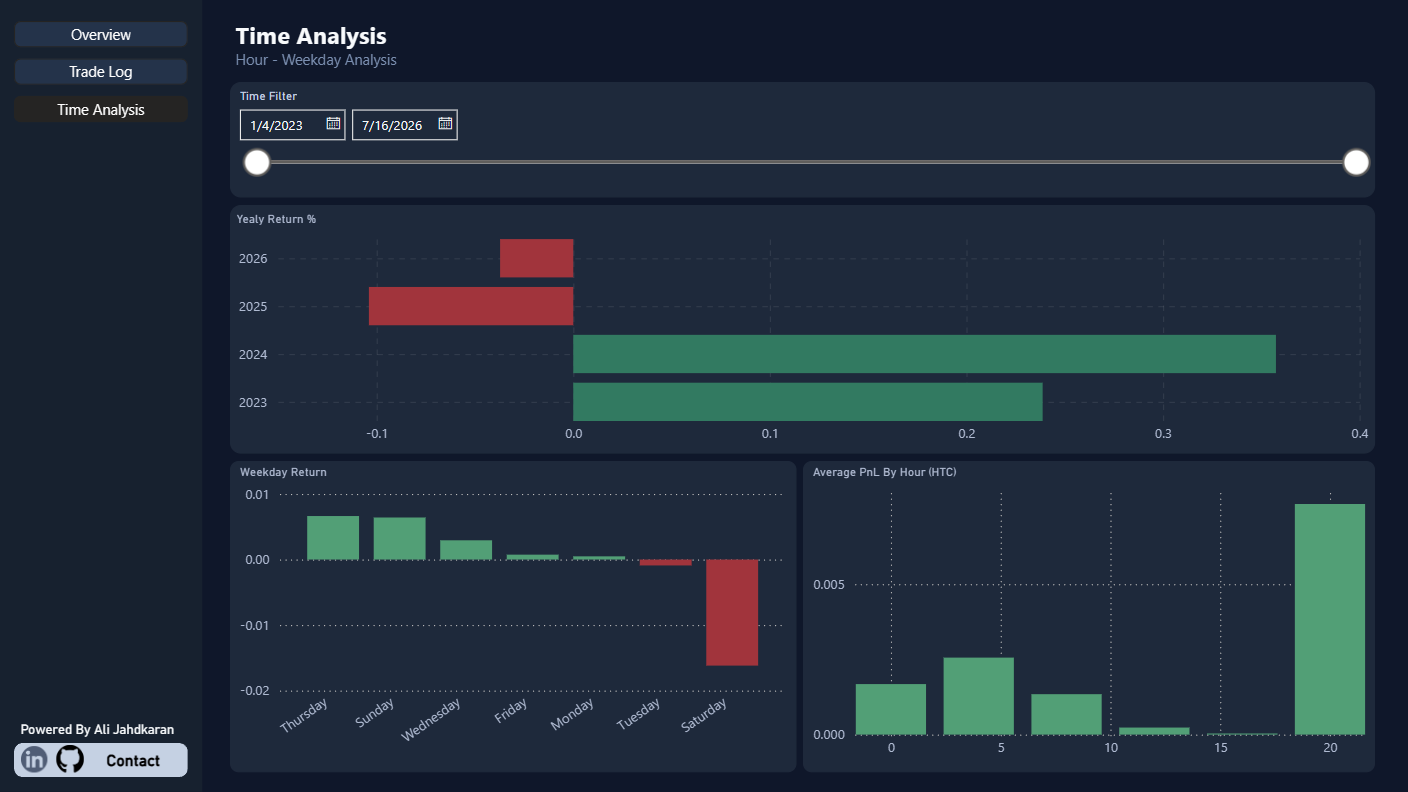

The page's visual inventory and layout, read from the dashboard file:
{"tool":"powerbi","page":{"name":"Time Analysis","canvas":[1280,720],"ordinal":2},"visuals":[{"type":"shape","box":[0,0,183.8,719.8],"z":0},{"type":"textbox","box":[209,12,365,63],"z":1000},{"type":"shape","box":[12.9,675.2,158.1,31],"z":2000},{"type":"image","box":[19.5,677.6,23.8,26.2],"z":3000},{"type":"image","box":[48.6,677.6,30.5,24.8],"z":4000},{"type":"textbox","box":[91.9,676.9,65.6,30.6],"z":5000},{"type":"textbox","box":[13.3,648.3,163.3,26.7],"z":6000},{"type":"pageNavigator","box":[12.7,19.1,158.2,92.7],"z":7000},{"type":"clusteredBarChart","title":"Yealy Return %","fields":{"Category":["backtested.exit_time.Variation.Date Hierarchy.Year","backtested.exit_time.Variation.Date Hierarchy.Quarter","backtested.exit_time.Variation.Date Hierarchy.Month","backtested.exit_time.Variation.Date Hierarchy.Day"],"Y":["Sum(backtested.pnl_pct)"]},"box":[209.1,186.4,1040.9,226.4],"z":8000},{"type":"clusteredColumnChart","title":"Weekday Return","fields":{"Y":["Avg(backtested.pnl_pct)"],"Category":["backtested.weekday"]},"box":[209.1,419.1,514.5,282.7],"z":9000},{"type":"slicer","title":"Year Equity","fields":{"Values":["backtested.exit_time"]},"box":[209.1,74.5,1040.9,105.5],"z":10000},{"type":"clusteredColumnChart","title":"Average PnL By Hour (HTC)","fields":{"Y":["Avg(backtested.pnl_pct)"],"Category":["backtested.hour"]},"box":[730,419.1,520,282.7],"z":11000}]}

Visuals, with their boxes on the page's 1280x720 design canvas (x1, y1, x2, y2). These are canvas units, not pixel positions in the 1408x792 screenshot, which may show the page scaled, cropped or inside an application window:
shape: [left=0, top=0, right=184, bottom=720]
textbox: [left=209, top=12, right=574, bottom=75]
shape: [left=13, top=675, right=171, bottom=706]
image: [left=20, top=678, right=43, bottom=704]
image: [left=49, top=678, right=79, bottom=702]
textbox: [left=92, top=677, right=158, bottom=708]
textbox: [left=13, top=648, right=177, bottom=675]
pageNavigator: [left=13, top=19, right=171, bottom=112]
"Yealy Return %" clusteredBarChart: [left=209, top=186, right=1250, bottom=413]
"Weekday Return" clusteredColumnChart: [left=209, top=419, right=724, bottom=702]
"Year Equity" slicer: [left=209, top=74, right=1250, bottom=180]
"Average PnL By Hour (HTC)" clusteredColumnChart: [left=730, top=419, right=1250, bottom=702]
